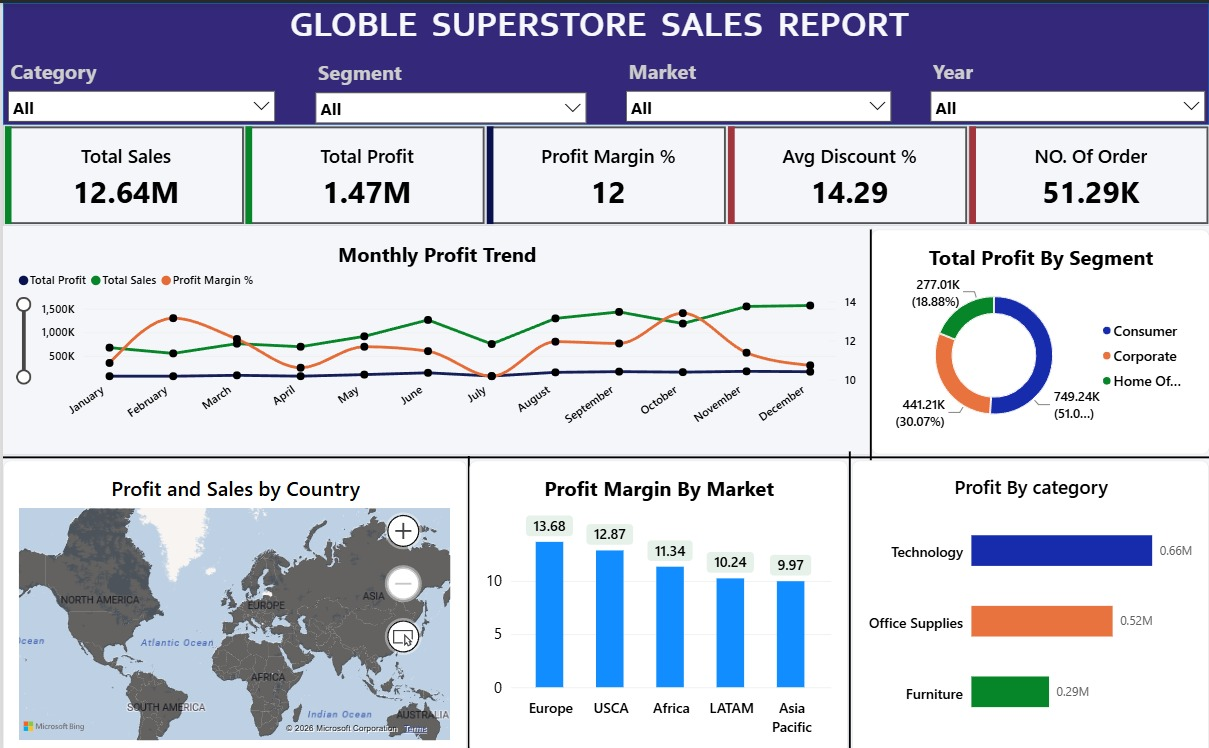

Layout of this report page (visuals, bound fields, positions):
{"tool":"powerbi","page":{"name":"Page 1","canvas":[1280,800],"ordinal":0},"visuals":[{"type":"shape","box":[0,0,1280,129.6],"z":0},{"type":"textbox","box":[293.7,0,684.6,182.3],"z":1000},{"type":"cardVisual","fields":{"Data":["Orders.Total Sales","Orders.Total Profit","Orders.Profit Margin %","Orders.Avg Discount %","Orders.NO. Of Order"]},"box":[0,129.6,1371.1,107.3],"z":2000},{"type":"lineChart","title":"Monthly Profit Trend ","fields":{"Category":["Orders.Order Date.Variation.Date Hierarchy.Month"],"Y":["Orders.Total Profit","Orders.Total Sales"],"Y2":["Orders.Profit Margin %"]},"box":[0,237,921.5,241],"z":3000},{"type":"shape","box":[0,445.6,1280,72.9],"z":4000},{"type":"donutChart","title":"Total Profit By Segment","fields":{"Category":["Orders.Segment"],"Y":["Orders.Total Profit"]},"box":[921.5,241,358.5,239],"z":6000},{"type":"shape","box":[872.9,241,97.2,245.1],"z":7000},{"type":"clusteredBarChart","title":"Profit By category","fields":{"Category":["Orders.Category"],"Y":["Orders.Total Profit"]},"box":[901.3,486.1,378.7,313.9],"z":8000},{"type":"filledMap","title":"Profit and Sales by Country","fields":{"Category":["Orders.Country"]},"box":[0,486.1,492.2,313.9],"z":9000},{"type":"shape","box":[445.6,480,97.2,320],"z":10000},{"type":"shape","box":[850.6,475.9,97.2,324.1],"z":11000},{"type":"columnChart","title":"Profit Margin By Market","fields":{"Category":["Orders.Market"],"Y":["Orders.Profit Margin %"]},"box":[494.2,486.1,401,311.9],"z":12000},{"type":"slicer","fields":{"Values":["Orders.Category"]},"box":[0,56.7,293.7,301.8],"z":12001},{"type":"slicer","fields":{"Values":["Orders.Segment"]},"box":[326.1,58.7,297.7,301.8],"z":12002},{"type":"slicer","fields":{"Values":["Orders.Market"]},"box":[656.2,56.7,291.6,301.8],"z":12003},{"type":"slicer","fields":{"Values":["Orders.Order Date.Variation.Date Hierarchy.Year"]},"box":[978.2,56.7,301.8,301.8],"z":12004}]}

Visuals, with their boxes in screenshot pixels (x1, y1, x2, y2), scaled from the page's 1280x800 canvas onto the 1209x748 screenshot:
shape: 0,0,1208,121
textbox: 277,0,924,170
cardVisual - Orders.Total Sales x Orders.Total Profit: 0,121,1208,222
"Monthly Profit Trend " lineChart: 0,222,870,447
shape: 0,417,1208,485
"Total Profit By Segment" donutChart: 870,225,1208,449
shape: 824,225,916,455
"Profit By category" clusteredBarChart: 851,455,1208,747
"Profit and Sales by Country" filledMap: 0,455,465,747
shape: 421,449,513,747
shape: 803,445,895,747
"Profit Margin By Market" columnChart: 467,455,846,746
slicer - Orders.Category: 0,53,277,335
slicer - Orders.Segment: 308,55,589,337
slicer - Orders.Market: 620,53,895,335
slicer - Orders.Order Date.Variation.Date Hierarchy.Year: 924,53,1208,335
